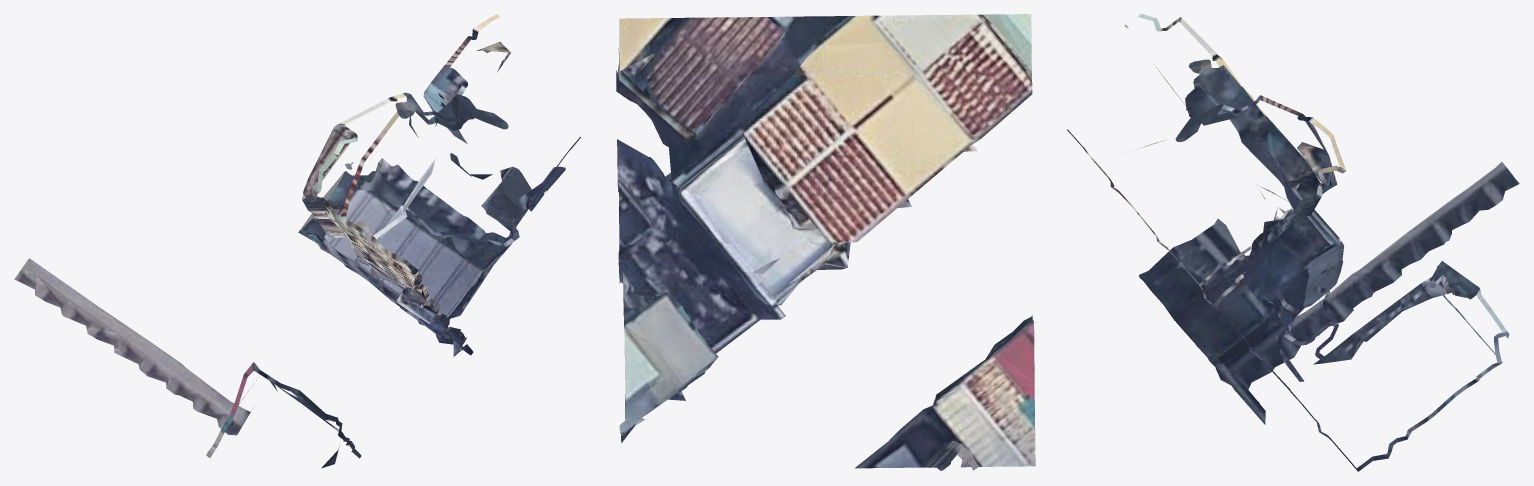
3 renders of one model, left to right at view 1: azimuth 30°, elevation 25°; view 2: azimuth 150°, elevation 25°; view 3: azimuth 270°, elevation 25°, orthographic. The views are drawn at different scales.
Bounding box in the file's own units: 49.47 × 40.76 × 44.64.
2 materials, 2 textured.
